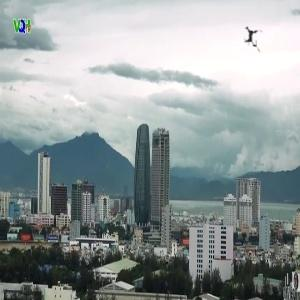drone: (229, 14, 278, 63)
